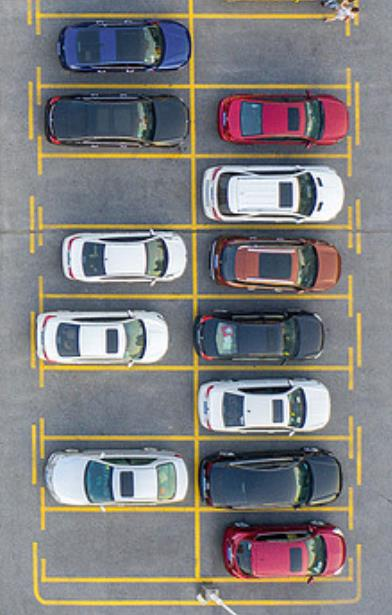car: (197, 159, 349, 226), (197, 446, 346, 511), (192, 372, 334, 440), (42, 448, 190, 512), (205, 230, 343, 298), (43, 88, 190, 151), (54, 13, 192, 78), (213, 89, 352, 151), (221, 519, 347, 586), (32, 307, 169, 367), (191, 305, 326, 365), (58, 227, 190, 286)
